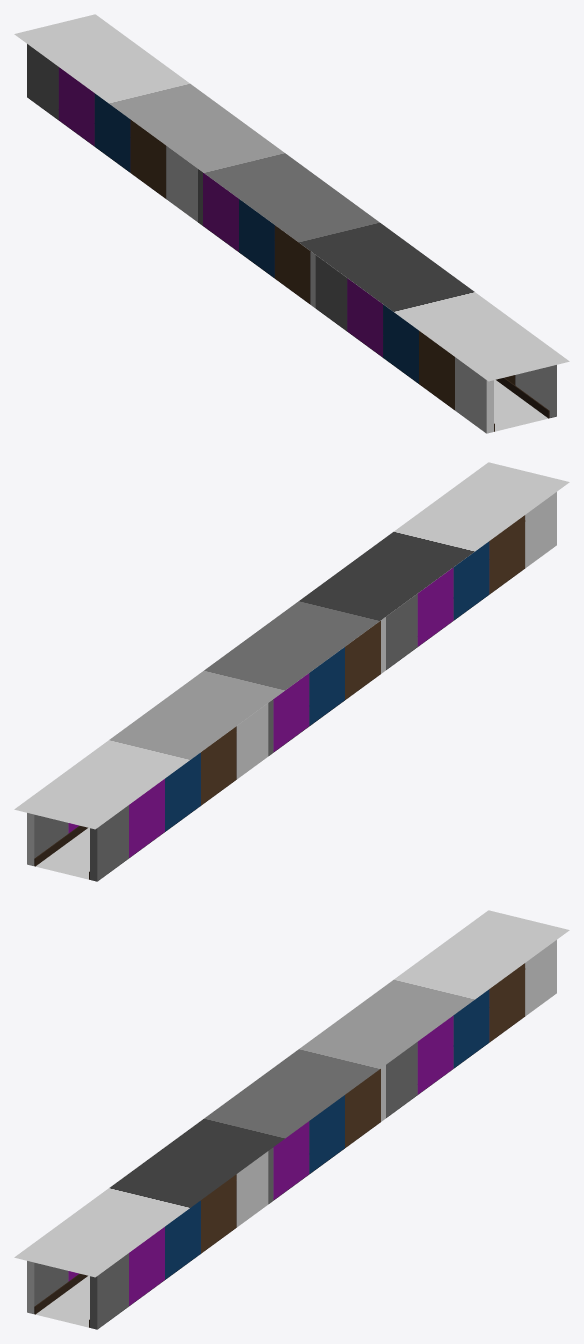
Rendered from hallway.fbx.
3 renders of one model, top to bottom at view 1: azimuth 30°, elevation 25°; view 2: azimuth 150°, elevation 25°; view 3: azimuth 330°, elevation 25°, orthographic.
Parts seen in each view (by area): view 1: roof, wall_right_03_outside, wall_right_01_outside, wall_right_02_outside, floor, wall_left; view 2: roof, wall_right_01_outside, wall_right_03_outside, wall_right_02_outside, floor, wall_left; view 3: roof, wall_left_01_outside, wall_left_03_outside, wall_left_02_outside, floor, wall_right.
Part boxes in pixels (<box>): roof: <box>14,14,569,381</box>; wall_right_03_outside: <box>315,255,493,433</box>; wall_right_01_outside: <box>27,44,197,221</box>; wall_right_02_outside: <box>198,169,315,308</box>; floor: <box>494,380,547,431</box>; wall_left: <box>505,366,549,410</box>; roof: <box>14,462,569,829</box>; wall_right_01_outside: <box>90,703,268,881</box>; wall_right_03_outside: <box>386,492,556,669</box>; wall_right_02_outside: <box>268,617,385,756</box>; floor: <box>36,828,89,879</box>; wall_left: <box>34,814,78,858</box>; roof: <box>14,910,569,1277</box>; wall_left_01_outside: <box>90,1151,268,1329</box>; wall_left_03_outside: <box>386,940,556,1117</box>; wall_left_02_outside: <box>268,1065,385,1204</box>; floor: <box>36,1276,89,1327</box>; wall_right: <box>34,1262,78,1306</box>.
Size of the model in its own units: 440 by 305 by 4440.
